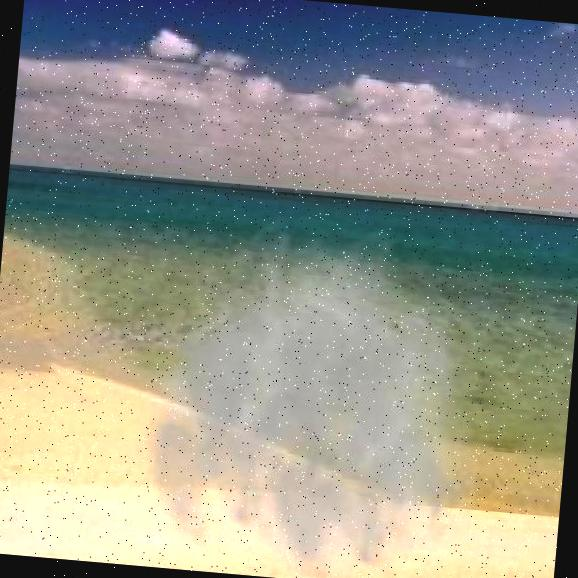smoke: (98, 230, 493, 578)
